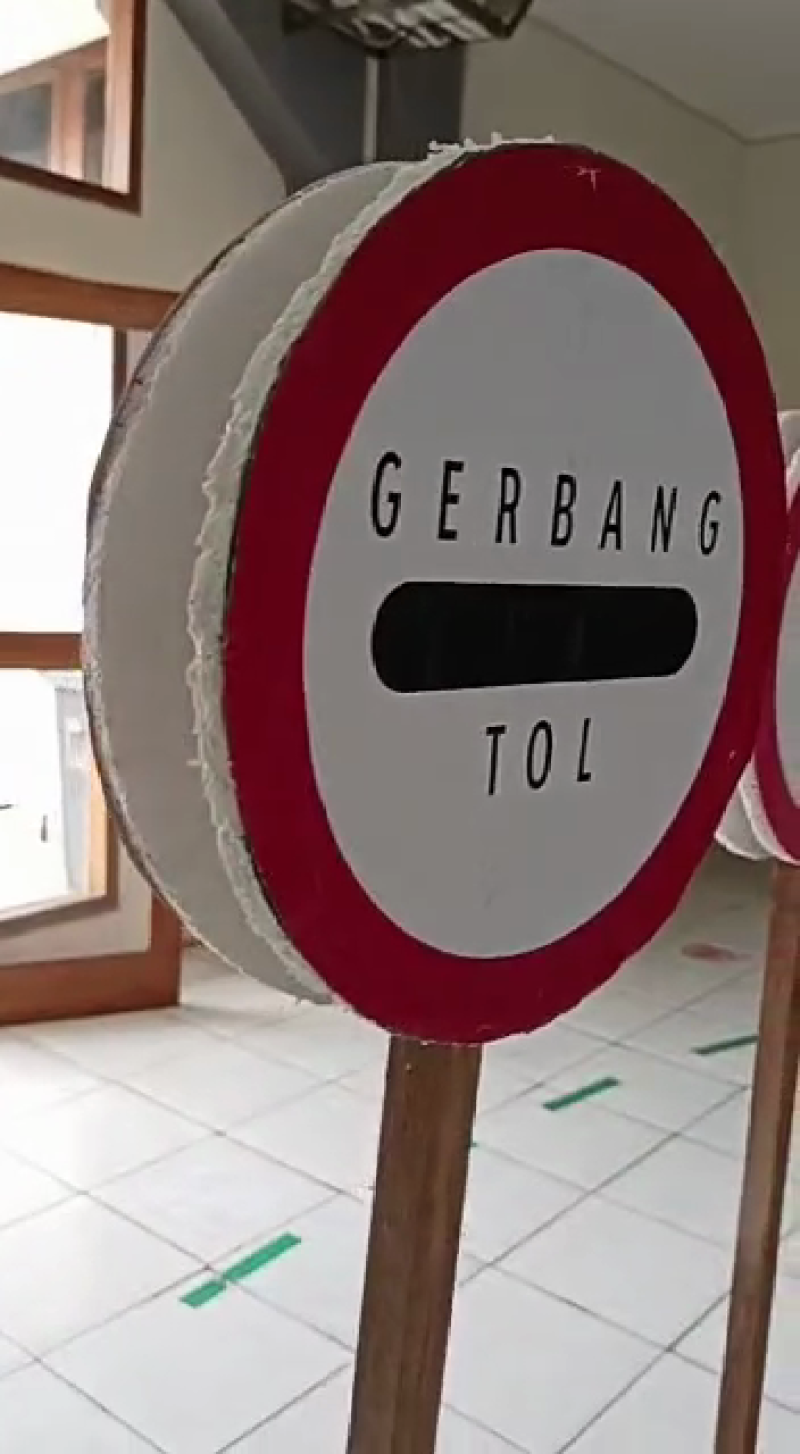gerbang tol: (211, 124, 789, 1045)
